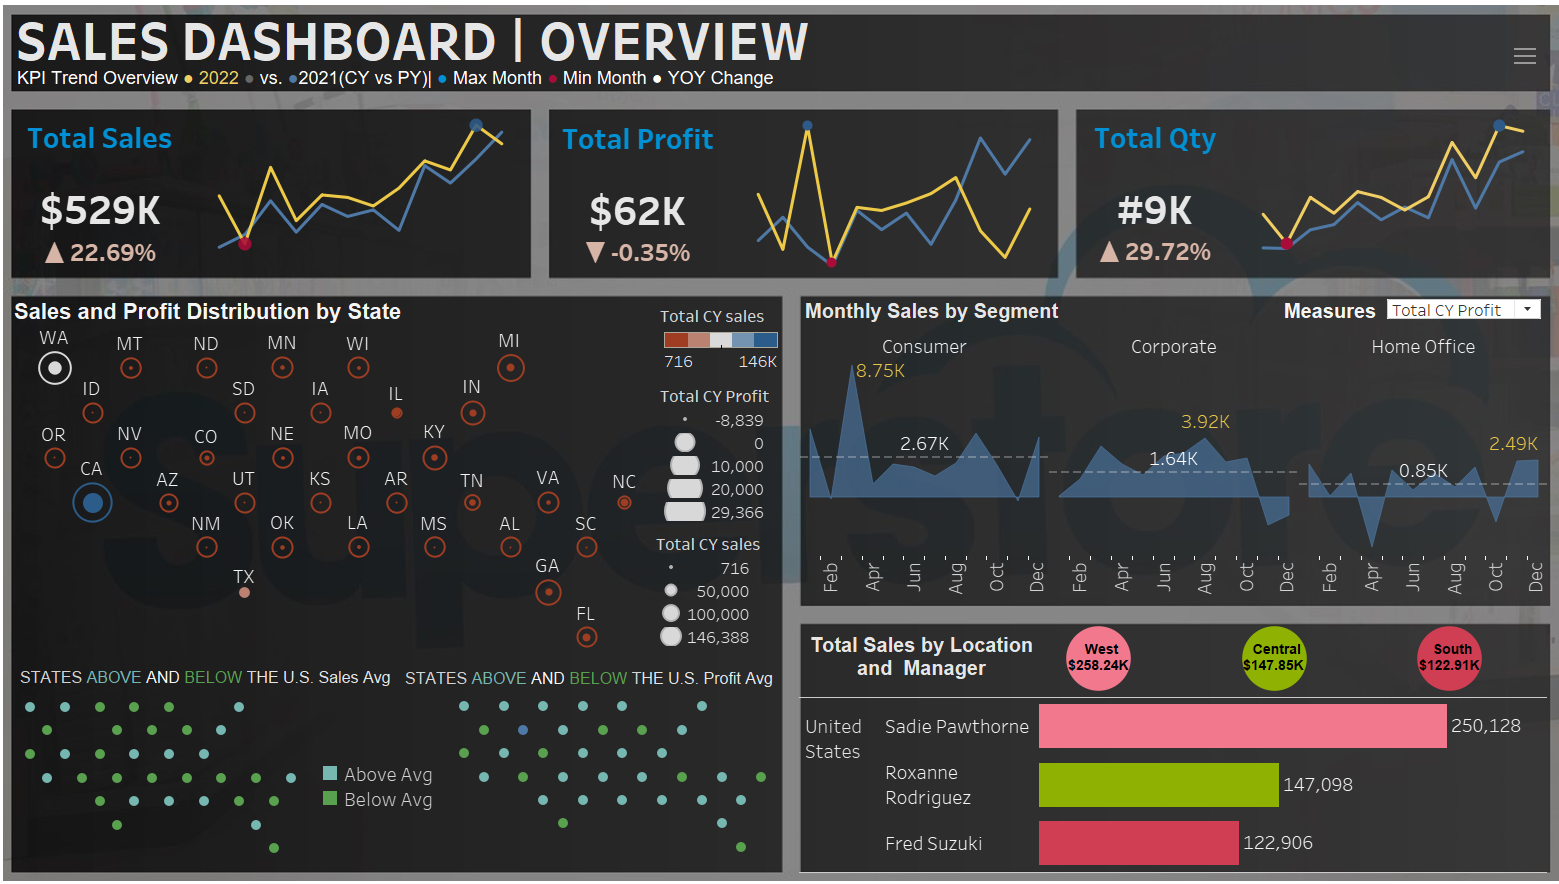

This screenshot's page, from the dashboard's own definition file:
{"tool":"tableau","page":{"name":"Sales Dashboard","canvas":[1600,900],"ordinal":0},"visuals":[{"type":"image","param":"C:/Users/dell/OneDrive/Desktop/Tableau Project/Sales Dashboard Background/Slide3","box":[8,8,1584,884]},{"type":"text","box":[30,23,1118,46]},{"type":"dashboard-object","box":[1531,51,24,24]},{"type":"text","box":[31,63,1014,44]},{"type":"filter","title":"Sales & Profit by State","param":"[federated.0me80zs1fsz5hk0zqcsgl1jgaice].[none:Category:nk]","box":[1305,64,261,74]},{"type":"filter","title":"Total Sales by Location & Manager","param":"[federated.0me80zs1fsz5hk0zqcsgl1jgaice].[none:Country/Region:nk]","box":[1292,67,274,70]},{"type":"worksheet","title":"Sales KPI","mark":"Automatic","box":[30,115,177,171]},{"type":"worksheet","title":"Sales Sparkline","mark":"Automatic","rows":["Calculation_1098596882378055692"],"cols":["Order Date"],"box":[207,115,342,171]},{"type":"worksheet","title":"Qty KPI","mark":"Automatic","box":[1094,116,159,168]},{"type":"worksheet","title":"Qty Sparkline ","mark":"Automatic","rows":["min max sales (copy)_1098596882390274062"],"cols":["Order Date"],"box":[1253,116,315,168]},{"type":"worksheet","title":"Profit KPI","mark":"Automatic","box":[565,117,182,168]},{"type":"worksheet","title":"Profit Sparkline ","mark":"Automatic","rows":["min max month (copy)_1098596882387468301"],"cols":["Order Date"],"box":[747,117,329,168]},{"type":"filter","title":"Sales & Profit by State","param":"[federated.0me80zs1fsz5hk0zqcsgl1jgaice].[attr:State/Province:nk]","box":[1292,137,274,70]},{"type":"filter","title":"Sales & Profit by State","param":"[federated.0me80zs1fsz5hk0zqcsgl1jgaice].[none:Region:nk]","box":[1305,138,261,74]},{"type":"filter","title":"Monthly Sales by segment","param":"[federated.0me80zs1fsz5hk0zqcsgl1jgaice].[none:Segment:nk]","box":[1292,207,274,70]},{"type":"filter","title":"Sales & Profit by State","param":"[federated.0me80zs1fsz5hk0zqcsgl1jgaice].[none:Ship Mode:nk]","box":[1305,212,261,74]},{"type":"text","box":[819,303,288,30]},{"type":"text","box":[1298,303,101,30]},{"type":"parameter","param":"[Parameters].[Parameter 1]","box":[1402,303,160,52]},{"type":"text","box":[28,304,420,30]},{"type":"legend","title":"Sales & Profit by State","param":"[federated.0me80zs1fsz5hk0zqcsgl1jgaice].[sum:Calculation_1098596882358054912:qk","box":[678,312,122,82]},{"type":"worksheet","title":"Sales & Profit by State","mark":"Circle","rows":["Row"],"cols":["Column","Column"],"box":[28,330,650,359]},{"type":"worksheet","title":"Monthly Sales by segment","mark":"Area","rows":["Calculation_359162118837567488"],"cols":["Segment","Order Date"],"box":[818,343,748,280]},{"type":"legend","title":"Sales & Profit by State","param":"[federated.0me80zs1fsz5hk0zqcsgl1jgaice].[sum:Total CY sales (copy)_109859688236","box":[678,392,123,141]},{"type":"legend","title":"Sales & Profit by State","param":"[federated.0me80zs1fsz5hk0zqcsgl1jgaice].[sum:Calculation_1098596882358054912:qk","box":[674,540,121,130]},{"type":"worksheet","title":"Region wise Sales","mark":"Circle","cols":["Region"],"box":[1029,631,526,68]},{"type":"text","box":[807,632,265,64]},{"type":"text","box":[34,665,383,40]},{"type":"text","box":[419,671,399,30]},{"type":"worksheet","title":"Avg Sales by State","mark":"Circle","rows":["Row"],"cols":["Column"],"box":[30,690,297,189]},{"type":"worksheet","title":"Avg Profit by State","mark":"Circle","rows":["Row"],"cols":["Column"],"box":[462,690,337,187]},{"type":"worksheet","title":"Total Sales by Location & Manager","mark":"Automatic","rows":["Country/Region","Regional Manager"],"cols":["Calculation_1098596882358054912"],"box":[817,704,748,176]},{"type":"legend","title":"Avg Sales by State","param":"[federated.0me80zs1fsz5hk0zqcsgl1jgaice].[none:Calculation_652459044511313922:nk","box":[336,742,120,101]}]}

Visuals, with their boxes in screenshot pixels (x1, y1, x2, y2), scaled from the page's 1600x900 canvas onto the 1559x884 screenshot:
image: crop(8, 8, 1551, 876)
text: crop(29, 23, 1119, 68)
dashboard-object: crop(1492, 50, 1515, 74)
text: crop(30, 62, 1018, 105)
"Sales & Profit by State" filter: crop(1272, 63, 1526, 136)
"Total Sales by Location & Manager" filter: crop(1259, 66, 1526, 135)
"Sales KPI" worksheet: crop(29, 113, 202, 281)
"Sales Sparkline" worksheet: crop(202, 113, 535, 281)
"Qty KPI" worksheet: crop(1066, 114, 1221, 279)
"Qty Sparkline " worksheet: crop(1221, 114, 1528, 279)
"Profit KPI" worksheet: crop(551, 115, 728, 280)
"Profit Sparkline " worksheet: crop(728, 115, 1048, 280)
"Sales & Profit by State" filter: crop(1259, 135, 1526, 203)
"Sales & Profit by State" filter: crop(1272, 136, 1526, 208)
"Monthly Sales by segment" filter: crop(1259, 203, 1526, 272)
"Sales & Profit by State" filter: crop(1272, 208, 1526, 281)
text: crop(798, 298, 1079, 327)
text: crop(1265, 298, 1363, 327)
parameter: crop(1366, 298, 1522, 349)
text: crop(27, 299, 437, 328)
"Sales & Profit by State" legend: crop(661, 306, 780, 387)
"Sales & Profit by State" worksheet (Circle marks): crop(27, 324, 661, 677)
"Monthly Sales by segment" worksheet (Area marks): crop(797, 337, 1526, 612)
"Sales & Profit by State" legend: crop(661, 385, 780, 524)
"Sales & Profit by State" legend: crop(657, 530, 775, 658)
"Region wise Sales" worksheet (Circle marks): crop(1003, 620, 1515, 687)
text: crop(786, 621, 1045, 684)
text: crop(33, 653, 406, 692)
text: crop(408, 659, 797, 689)
"Avg Sales by State" worksheet (Circle marks): crop(29, 678, 319, 863)
"Avg Profit by State" worksheet (Circle marks): crop(450, 678, 779, 861)
"Total Sales by Location & Manager" worksheet: crop(796, 691, 1525, 864)
"Avg Sales by State" legend: crop(327, 729, 444, 828)
